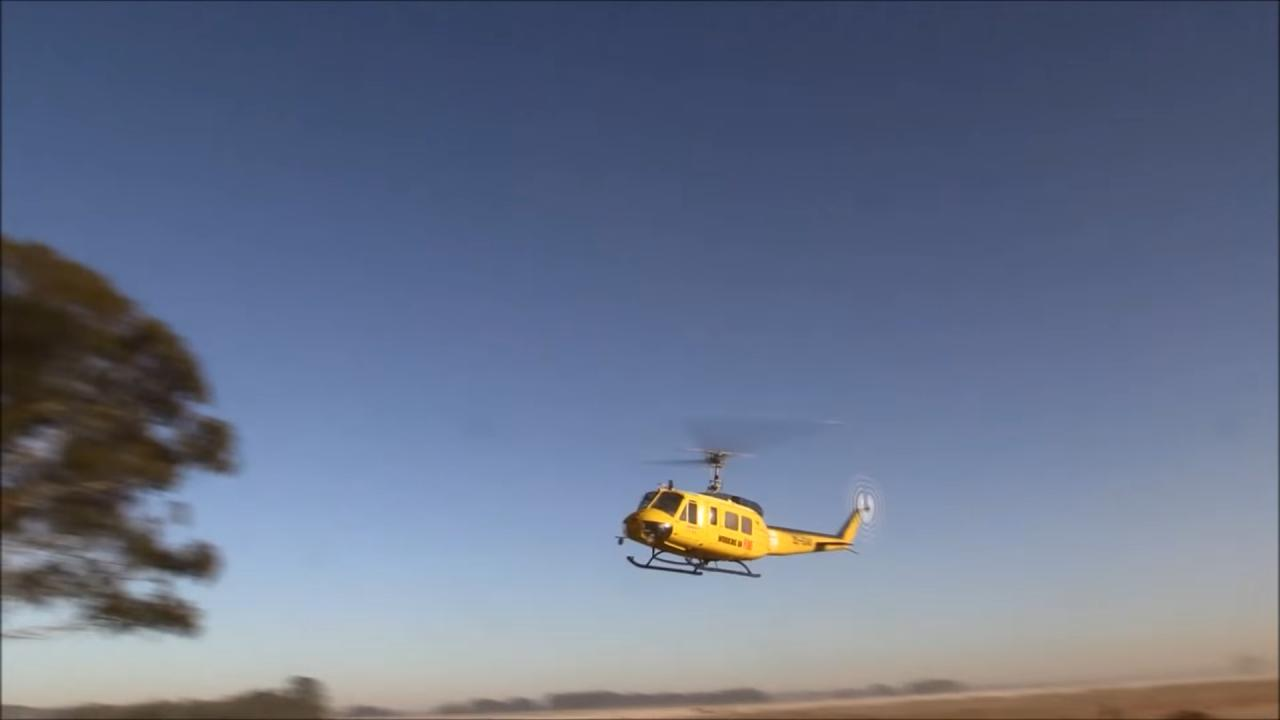Helicopter: (605, 394, 900, 590)
